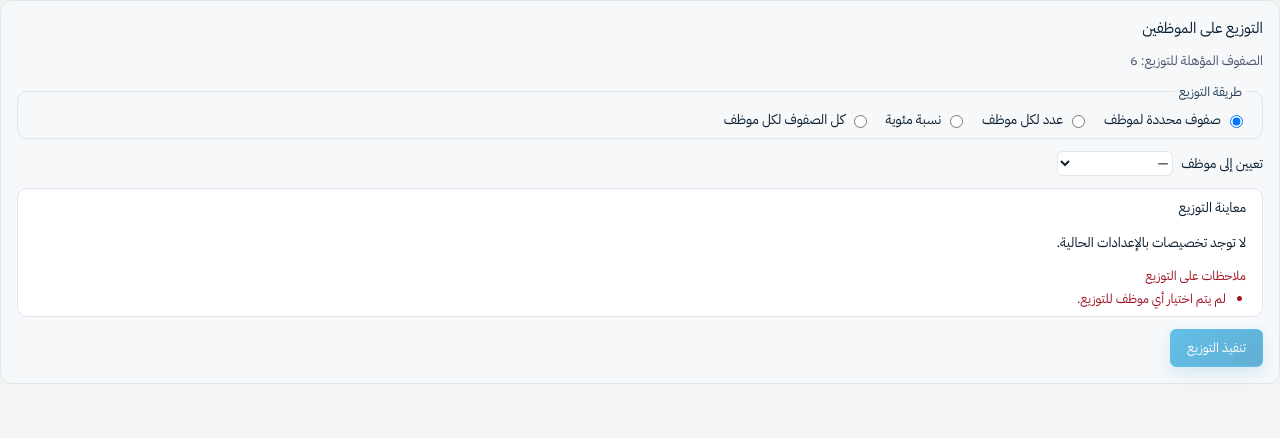
AssignmentPanel — gating › reports the planner's own complaints rather than reducing them to a total
This screenshot has width=1280, height=438.
Click the radio button labelled "عدد لكل موظف" at (1078, 121), box [1072,114,1085,128]
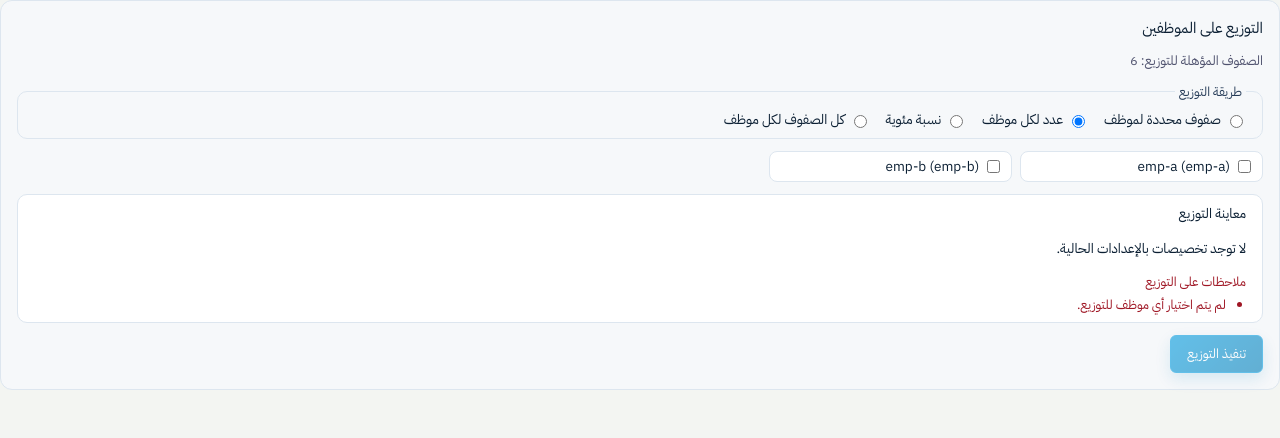
Click the checkbox labelled "emp-a (emp-a)" at (1244, 166), box [1238,160,1251,173]
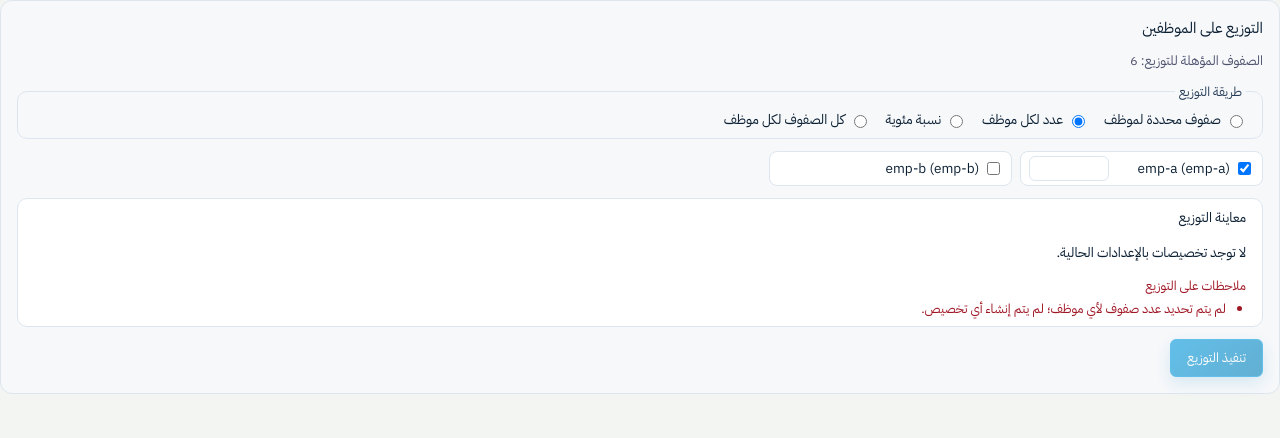
Type "99" into the number field named "عدد الصفوف للموظف emp-a" at (1069, 168), box [1029,156,1109,181]
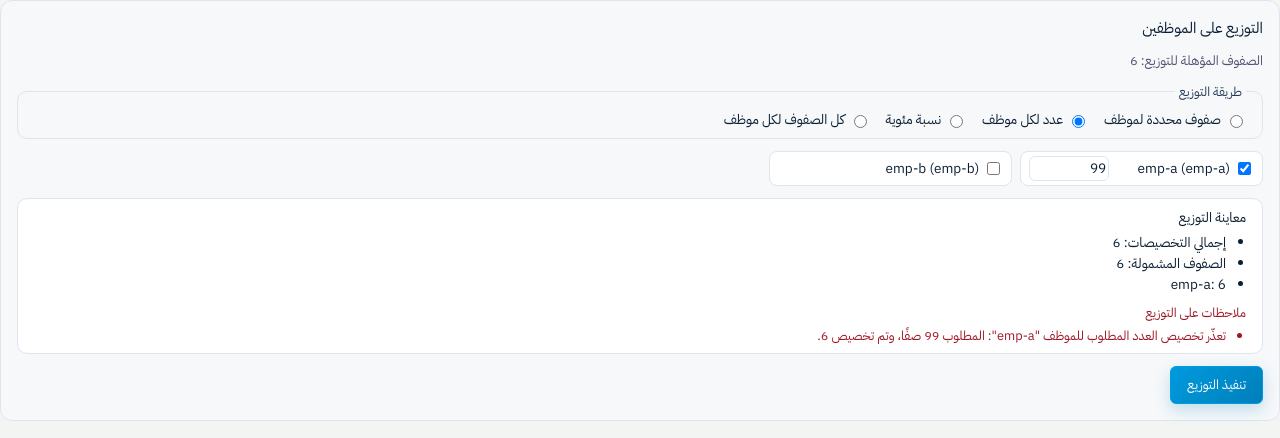
expect the text "ملاحظات على التوزيع" is shown: met, box [1145,303,1246,322]
expect the list item "99" is shown: met, box [817,326,1226,345]
